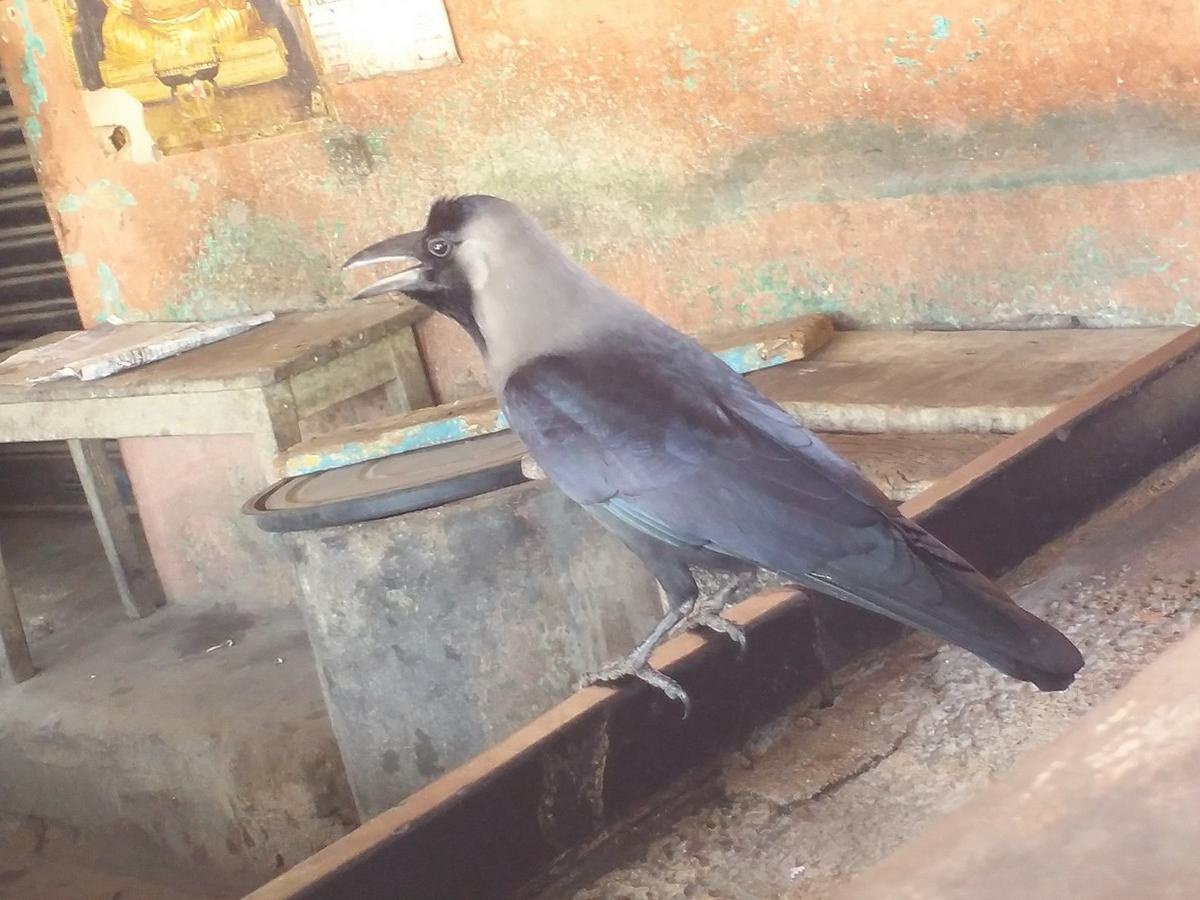crow: (346, 186, 1094, 728)
